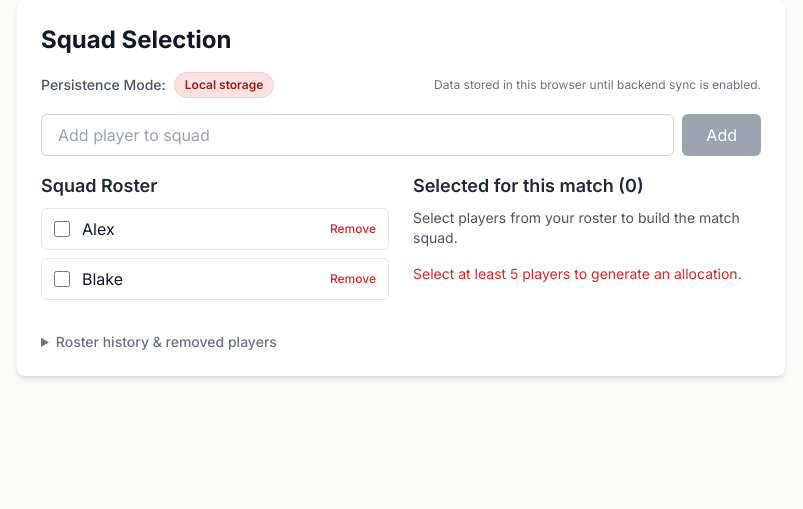
Scenario: PlayerInput › adds players to roster and auto-selects them
In the field with placeholder "Add player to squad": (358, 135) 41,114 -> 674,156, type "Casey"
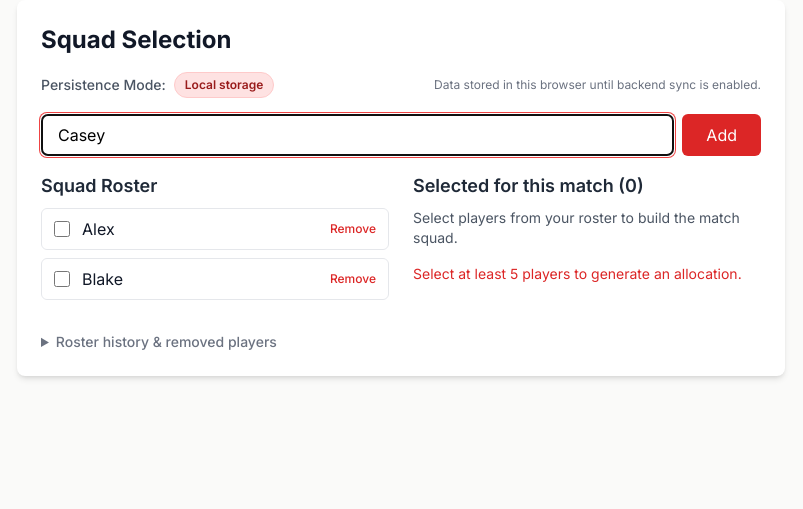
Click the button with aria-label "add player to squad": (722, 135) 682,114 -> 761,156
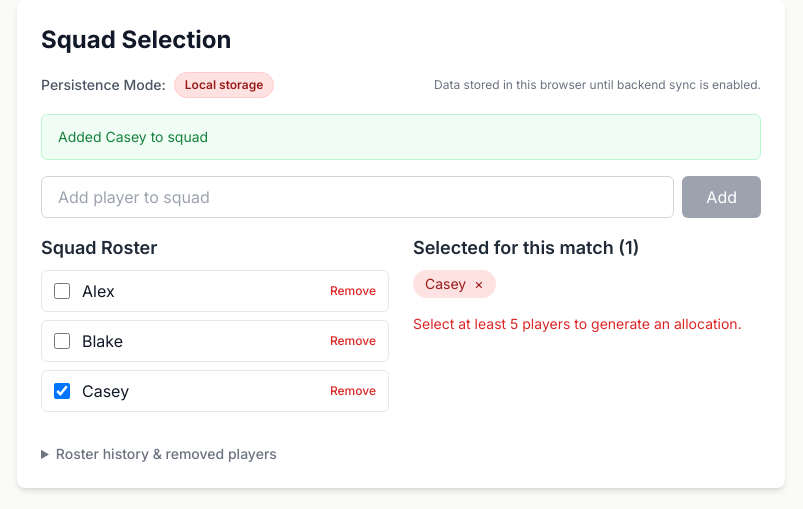
Check: the text "Added Casey to squad" is shown, box 41,114 -> 761,160
